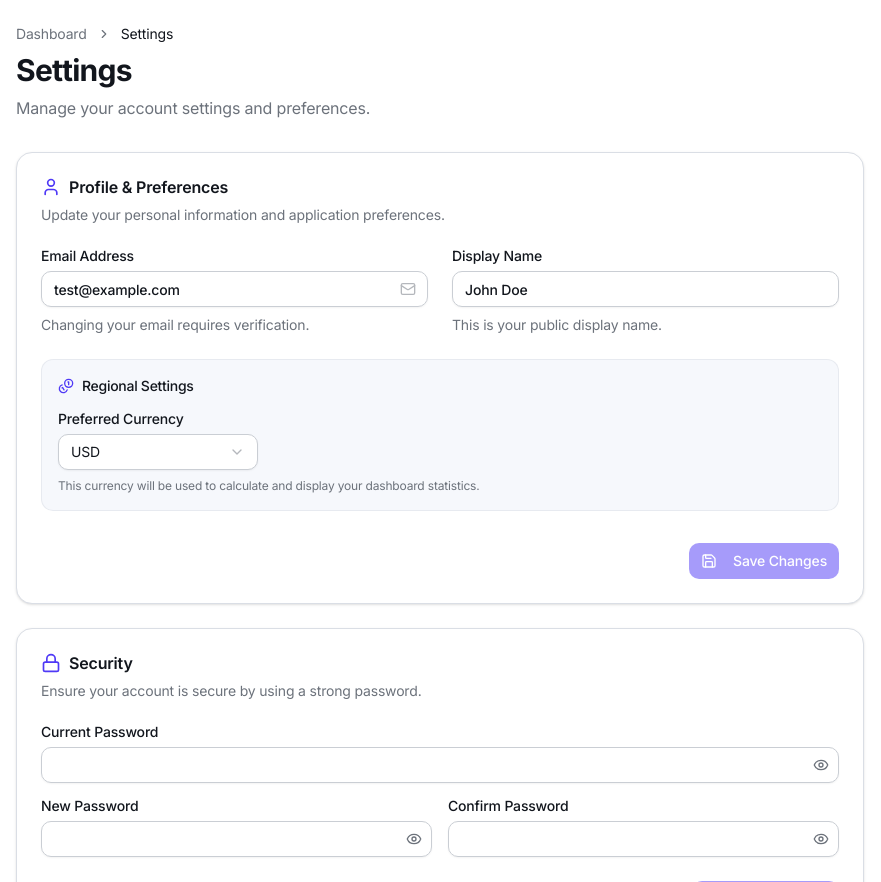
Test: SettingsPage › should validate password matching
Expected: the heading "Settings" is shown, left=16, top=52, right=132, bottom=88
Type "password123" into the password field with test id "current-password" at (440, 765), box left=41, top=747, right=839, bottom=783
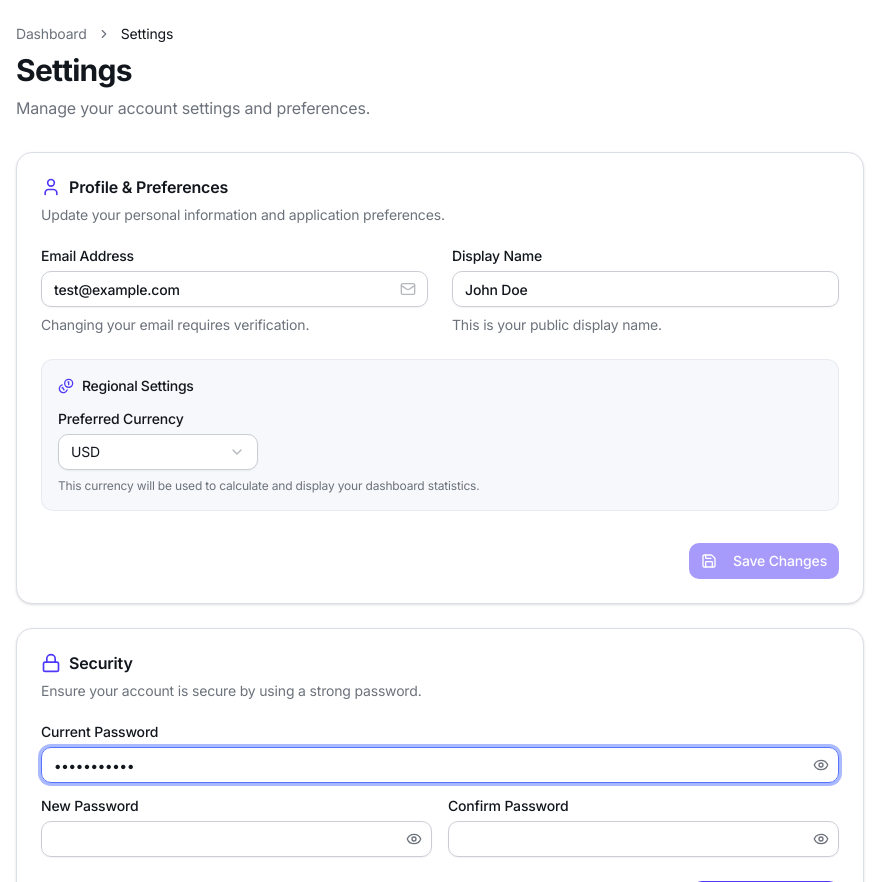
Type "newpassword123" into the password field with test id "new-password" at (236, 839), box left=41, top=821, right=432, bottom=857
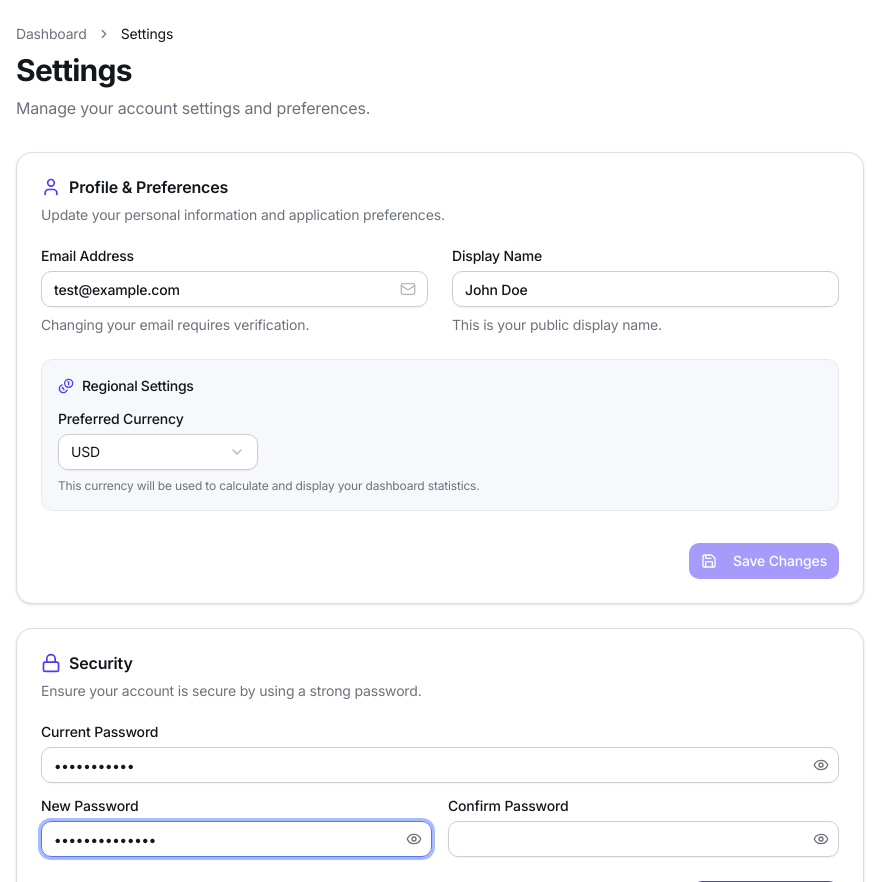
Type "differentpassword" into the password field with test id "confirm-password" at (644, 839), box left=448, top=821, right=839, bottom=857
(page scrolled)
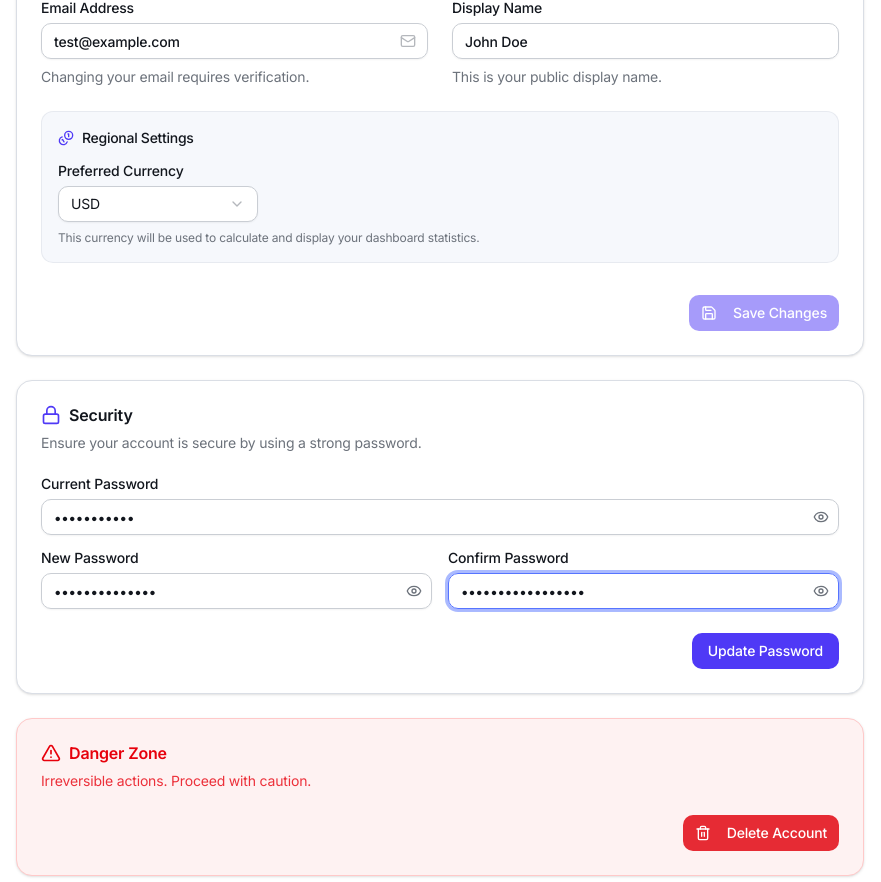
Click the button "Update Password" at (765, 651), box left=692, top=633, right=839, bottom=669
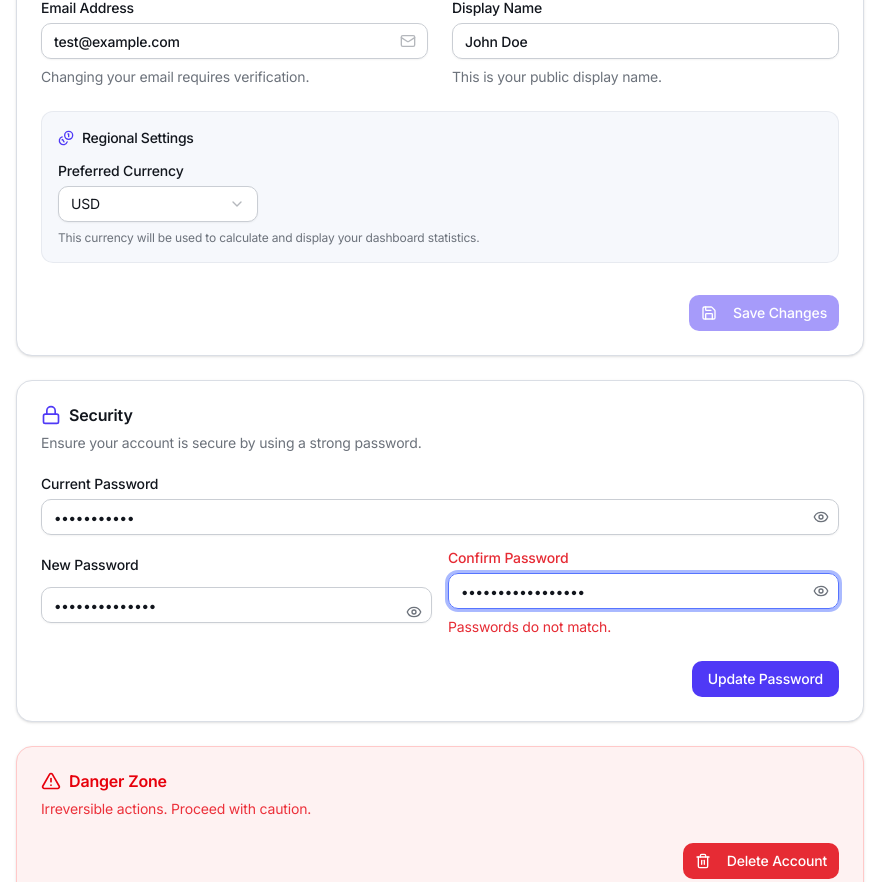
Now the text "Passwords do not match." is shown, box left=448, top=618, right=611, bottom=635
